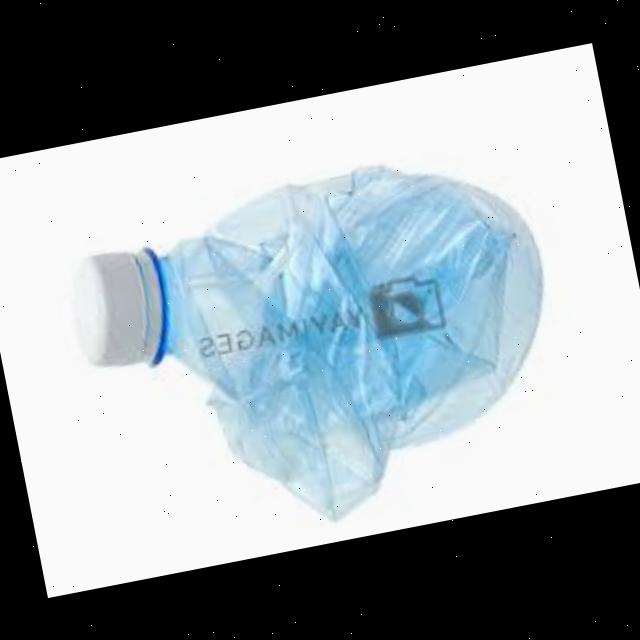trash: (52, 126, 598, 558)
